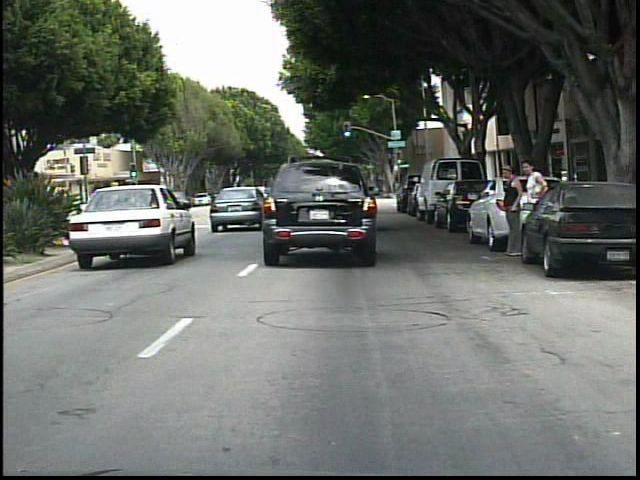person: (519, 155, 550, 255), (495, 166, 526, 265)
